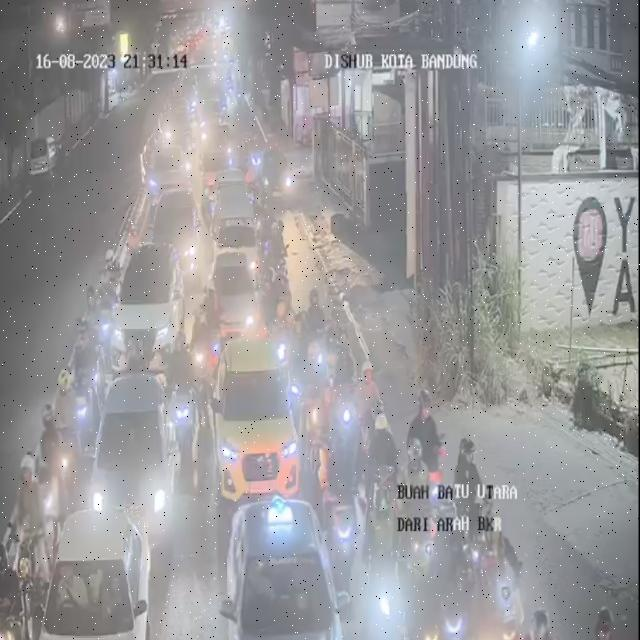cars: (92, 362, 181, 560), (214, 319, 304, 504), (227, 491, 339, 638), (40, 506, 148, 638), (117, 241, 183, 374), (214, 249, 263, 350), (216, 179, 264, 273), (152, 193, 201, 285), (146, 143, 196, 210), (198, 146, 235, 214), (200, 125, 236, 167), (162, 123, 192, 172)
motorcycle: (323, 435, 366, 569), (482, 508, 522, 639), (11, 455, 53, 577), (32, 406, 74, 522), (452, 433, 484, 578), (168, 326, 198, 458), (52, 366, 84, 480), (410, 392, 444, 492), (365, 405, 398, 506), (0, 540, 33, 639), (192, 297, 218, 392), (263, 219, 290, 301), (302, 282, 325, 376), (91, 272, 116, 356), (304, 366, 328, 450), (442, 576, 473, 638), (71, 317, 92, 392), (525, 606, 563, 640), (359, 359, 379, 422), (587, 602, 620, 640), (121, 329, 143, 379), (274, 288, 292, 349), (74, 312, 94, 358), (294, 321, 312, 371)
